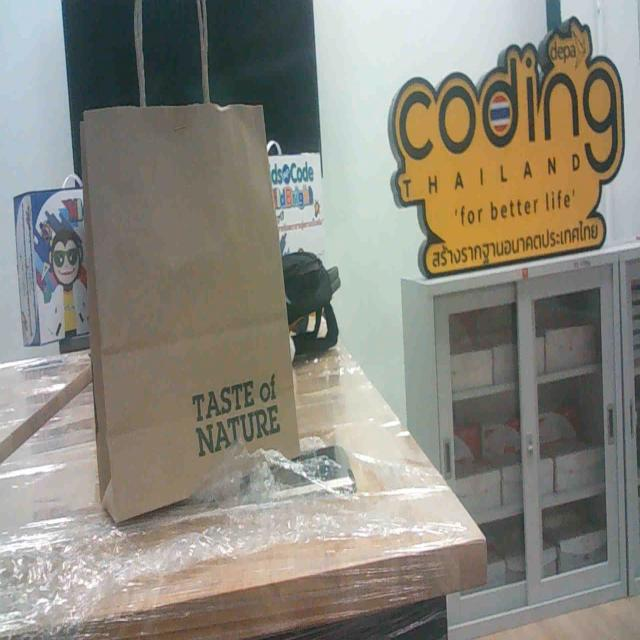bag: (75, 92, 299, 480)
